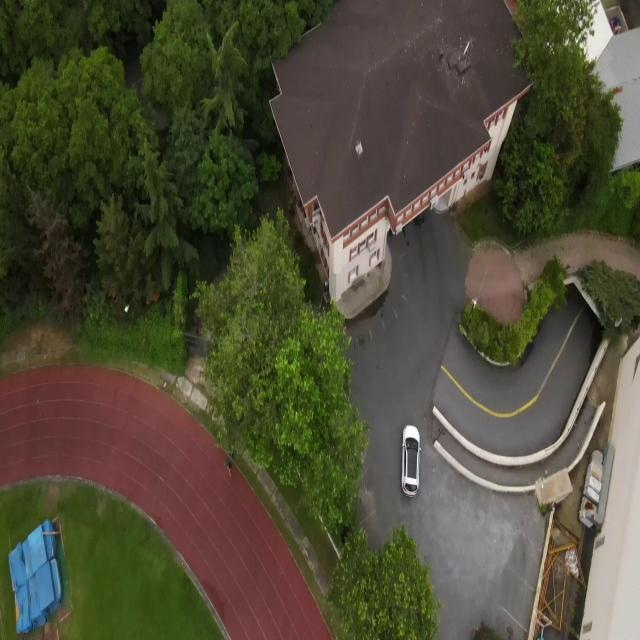p3rson: (225, 458, 232, 476), (228, 448, 235, 459)
